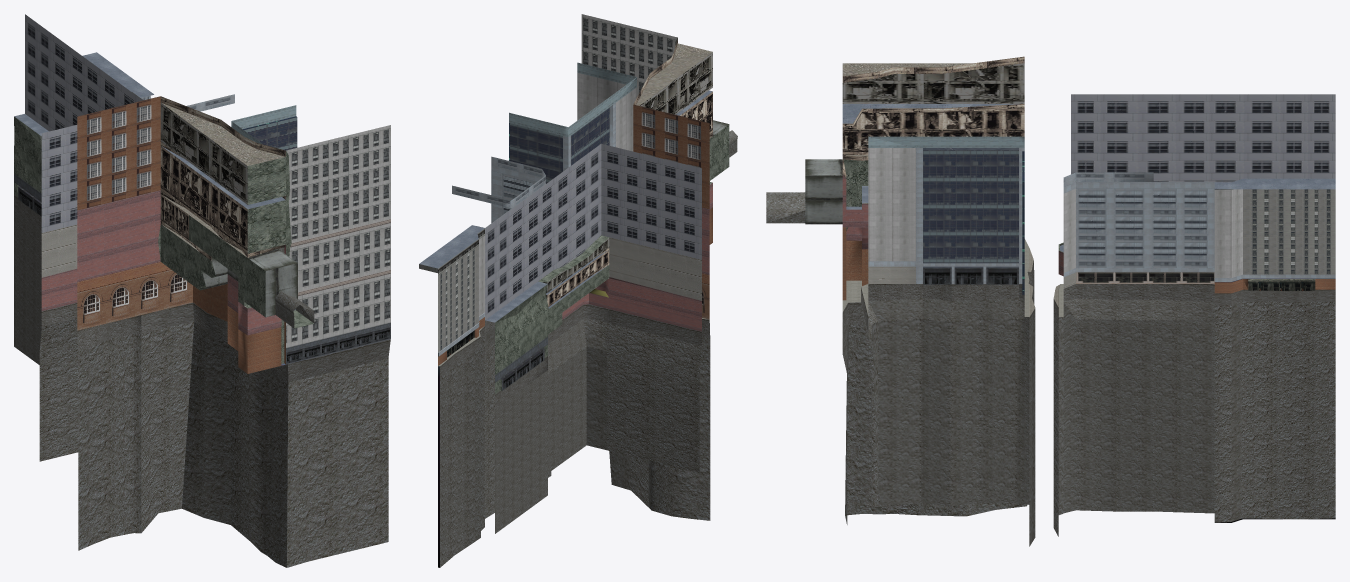
File: STG0100_OS_06.fbx
3 views of the same model, side by side, from view 1: azimuth 30°, elevation 25°; view 2: azimuth 150°, elevation 25°; view 3: azimuth 270°, elevation 25° (orthographic). The views are drawn at different scales.
Parts seen in each view (by area): view 1: STG0100_OS_06_default; view 2: STG0100_OS_06_default; view 3: STG0100_OS_06_default.
Part boxes in pixels (x1,y1,x2,y2): STG0100_OS_06_default: [14, 14, 390, 567]; STG0100_OS_06_default: [419, 14, 737, 567]; STG0100_OS_06_default: [766, 56, 1335, 546].
Bounding box in the file's own units: 1190 × 2056 × 2337.
